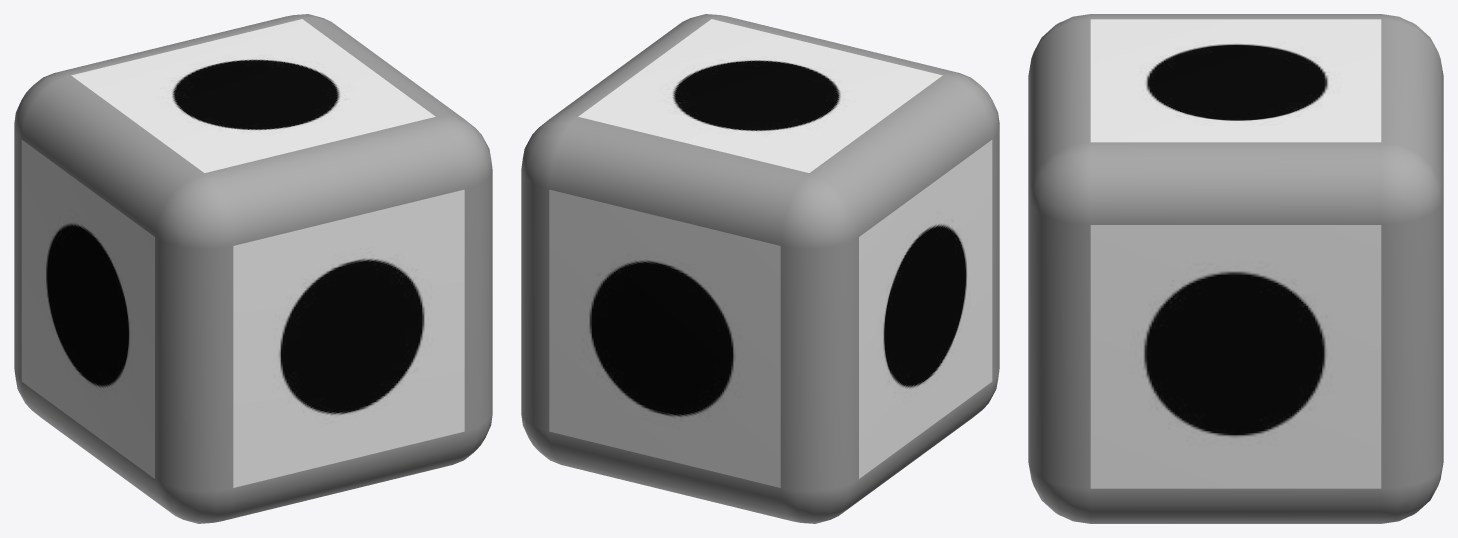
Rendered from YY_YangCube.fbx.
3 renders of one model, left to right at view 1: azimuth 30°, elevation 25°; view 2: azimuth 150°, elevation 25°; view 3: azimuth 270°, elevation 25°, orthographic. The views are drawn at different scales.
Parts seen in each view (by area): view 1: polySurface3346; view 2: polySurface3346; view 3: polySurface3346.
Part boxes in pixels (<box>): polySurface3346: <box>14,14,492,523</box>; polySurface3346: <box>521,14,999,523</box>; polySurface3346: <box>1028,14,1443,523</box>.
Size of the model in its own units: 75 by 75 by 75.
Materials: 2 (1 with a texture image).
